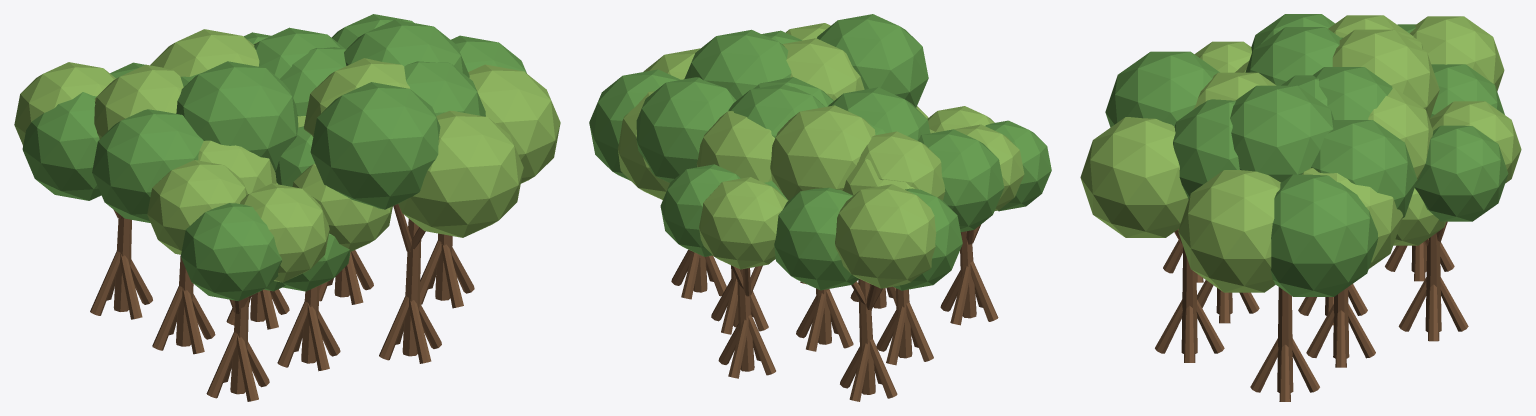
File: FEATURE_JUNGLE_v02.fbx
3 views of the same model, side by side, from view 1: azimuth 30°, elevation 25°; view 2: azimuth 150°, elevation 25°; view 3: azimuth 270°, elevation 25° (orthographic). The views are drawn at different scales.
Visible parts, largest first — view 1: Broadleaf_crown.198, Broadleaf_crown.199, Broadleaf_crown.182, Broadleaf_crown.194, Broadleaf_crown.206, Broadleaf_crown.214, Broadleaf_crown.211, Broadleaf_crown.205, Broadleaf_crown.207, Broadleaf_crown.210, Broadleaf_crown.193, Broadleaf_crown.187 (+30 smaller); view 2: Broadleaf_crown.213, Broadleaf_crown.181, Broadleaf_crown.188, Broadleaf_crown.201, Broadleaf_crown.212, Broadleaf_crown.198, Broadleaf_crown.194, Broadleaf_crown.210, Broadleaf_crown.189, Broadleaf_crown.200, Broadleaf_crown.208, Broadleaf_crown.193 (+29 smaller); view 3: Broadleaf_crown.208, Broadleaf_crown.199, Broadleaf_crown.211, Broadleaf_crown.210, Broadleaf_crown.200, Broadleaf_crown.198, Broadleaf_crown.188, Broadleaf_crown.181, Broadleaf_crown.196, Broadleaf_crown.213, Broadleaf_crown.182, Broadleaf_crown.180 (+27 smaller).
Boxes of the visible parts, x1,y1,x2,y2 form: Broadleaf_crown.198: (310, 82, 440, 209); Broadleaf_crown.199: (398, 110, 523, 237); Broadleaf_crown.182: (176, 61, 298, 171); Broadleaf_crown.194: (92, 109, 203, 222); Broadleaf_crown.206: (180, 203, 281, 301); Broadleaf_crown.214: (22, 92, 101, 200); Broadleaf_crown.211: (468, 64, 560, 183); Broadleaf_crown.205: (147, 160, 247, 254); Broadleaf_crown.207: (240, 183, 329, 282); Broadleaf_crown.210: (344, 19, 469, 77); Broadleaf_crown.193: (94, 64, 183, 138); Broadleaf_crown.187: (292, 163, 392, 251); Broadleaf_crown.213: (835, 184, 936, 288); Broadleaf_crown.181: (770, 105, 875, 200); Broadleaf_crown.188: (636, 77, 736, 182); Broadleaf_crown.201: (699, 177, 787, 269); Broadleaf_crown.212: (774, 187, 858, 290); Broadleaf_crown.198: (817, 14, 928, 107); Broadleaf_crown.194: (918, 129, 1004, 232); Broadleaf_crown.210: (684, 29, 791, 100); Broadleaf_crown.189: (696, 111, 774, 182); Broadleaf_crown.200: (660, 164, 740, 256); Broadleaf_crown.208: (589, 69, 680, 180); Broadleaf_crown.193: (859, 131, 945, 200); Broadleaf_crown.208: (1271, 174, 1378, 296); Broadleaf_crown.199: (1080, 117, 1188, 237); Broadleaf_crown.211: (1178, 170, 1280, 292); Broadleaf_crown.210: (1230, 85, 1333, 182); Broadleaf_crown.200: (1414, 125, 1508, 221); Broadleaf_crown.198: (1105, 51, 1219, 127); Broadleaf_crown.188: (1311, 120, 1417, 218); Broadleaf_crown.181: (1332, 29, 1439, 118); Broadleaf_crown.196: (1173, 99, 1239, 199); Broadleaf_crown.213: (1410, 16, 1504, 91); Broadleaf_crown.182: (1245, 27, 1341, 85); Broadleaf_crown.180: (1313, 67, 1392, 119).
Size of the model in its own units: 151 by 93.93 by 134.
